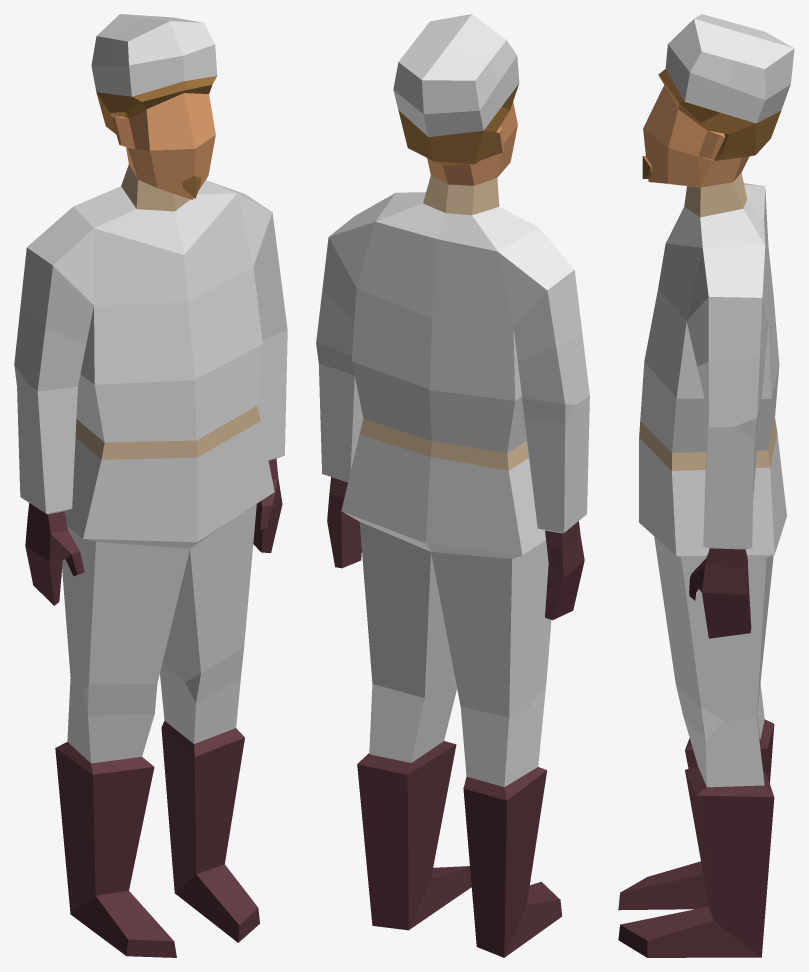
Rendered from man-lord-rival.fbx.
3 views of the same model, side by side, from view 1: azimuth 30°, elevation 25°; view 2: azimuth 150°, elevation 25°; view 3: azimuth 270°, elevation 25° (orthographic).
Visible parts, largest first — view 1: man-lord-rival; view 2: man-lord-rival; view 3: man-lord-rival.
Boxes of the visible parts, x1,y1,x2,y2 form: man-lord-rival: [14, 14, 287, 957]; man-lord-rival: [316, 14, 589, 957]; man-lord-rival: [618, 14, 794, 957].
Bounding box in the file's own units: 0.5495 × 1.89 × 0.3336.
